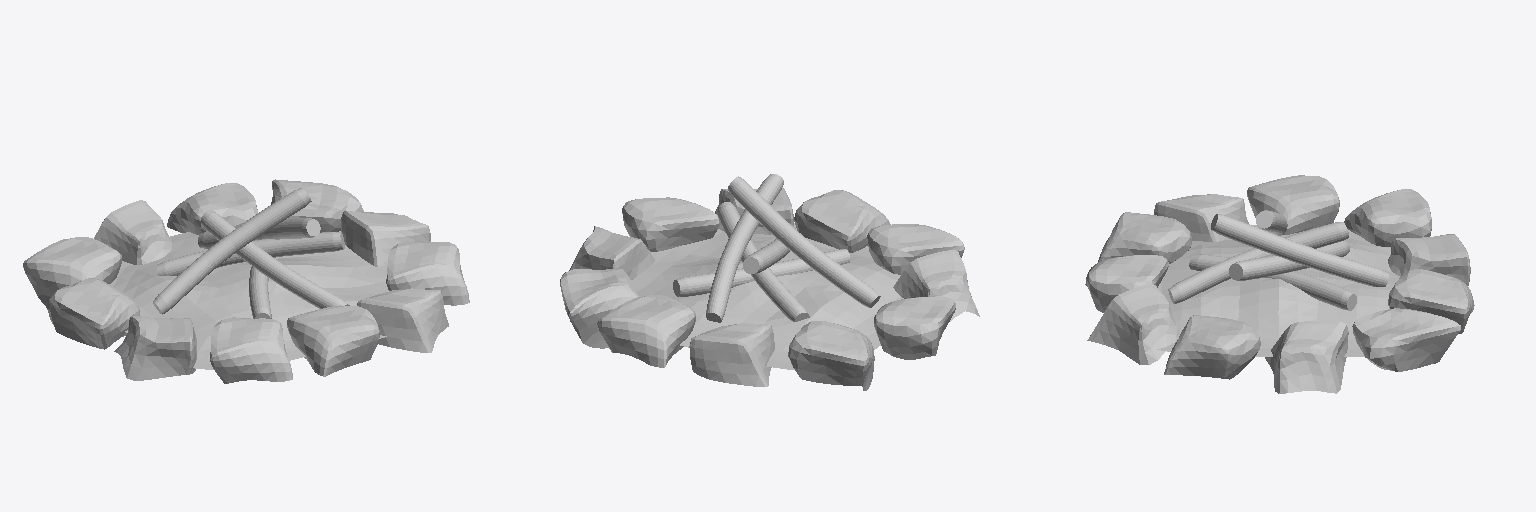
Rendered from firepit.obj.
3 views of the same model, side by side, from view 1: azimuth 30°, elevation 25°; view 2: azimuth 150°, elevation 25°; view 3: azimuth 270°, elevation 25° (orthographic).
Visible parts, largest first — view 1: Ohniste_Circle.004; view 2: Ohniste_Circle.004; view 3: Ohniste_Circle.004.
Boxes of the visible parts, x1=… form: Ohniste_Circle.004: x1=23, y1=179, x2=469, y2=383; Ohniste_Circle.004: x1=560, y1=174, x2=979, y2=390; Ohniste_Circle.004: x1=1085, y1=175, x2=1474, y2=393.
Bounding box in the file's own units: 12.07 × 3.92 × 10.84.